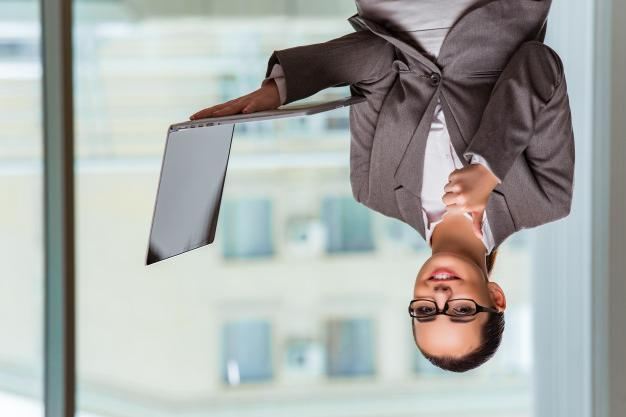thumbsdown: (442, 168, 485, 240)
